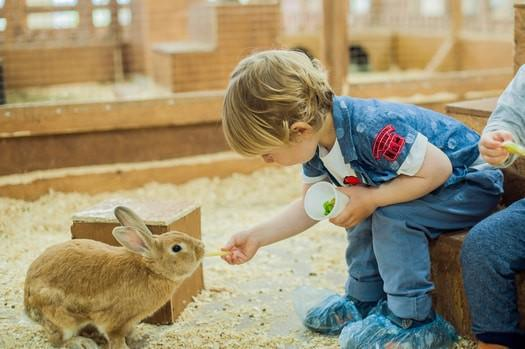child: (214, 40, 499, 345)
